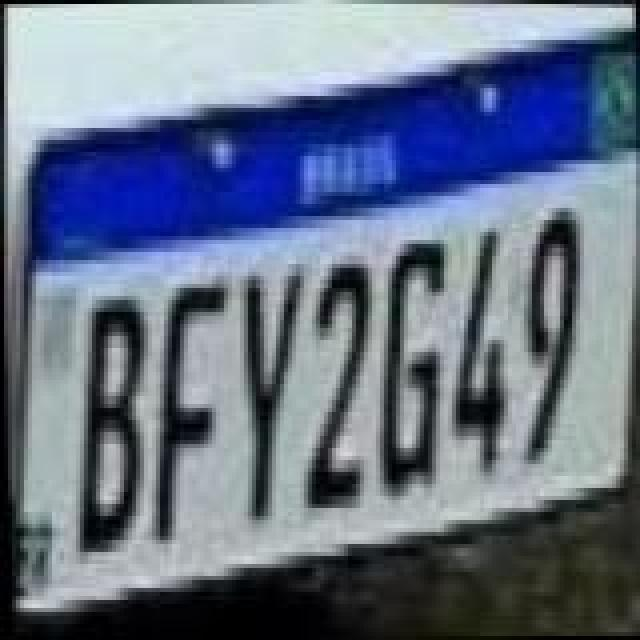2: (290, 258, 378, 510)
4: (440, 222, 520, 478)
B: (64, 296, 156, 560)
F: (142, 276, 238, 544)
G: (368, 234, 456, 498)
Y: (228, 262, 312, 522)
